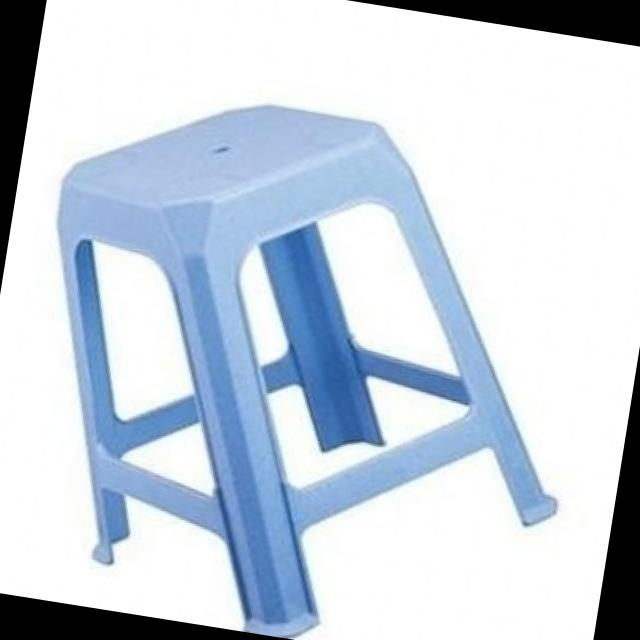Chair: (0, 65, 619, 640)
